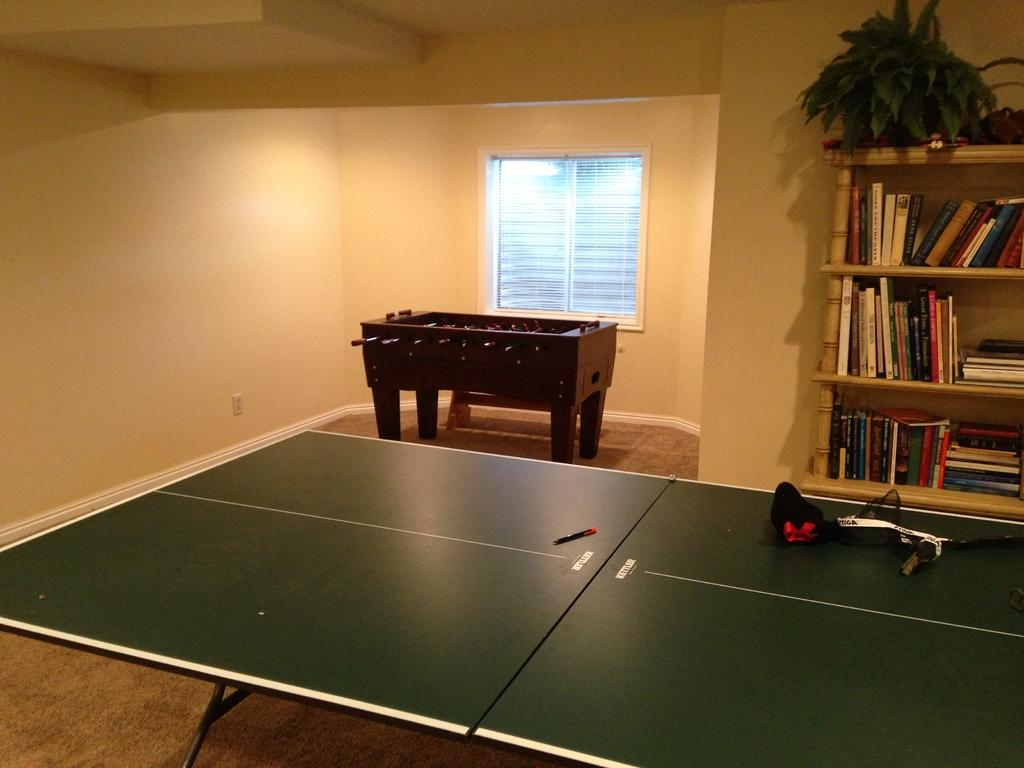Book: (835, 396, 1022, 499), (846, 180, 1023, 270), (838, 280, 965, 379), (958, 336, 1023, 389)
